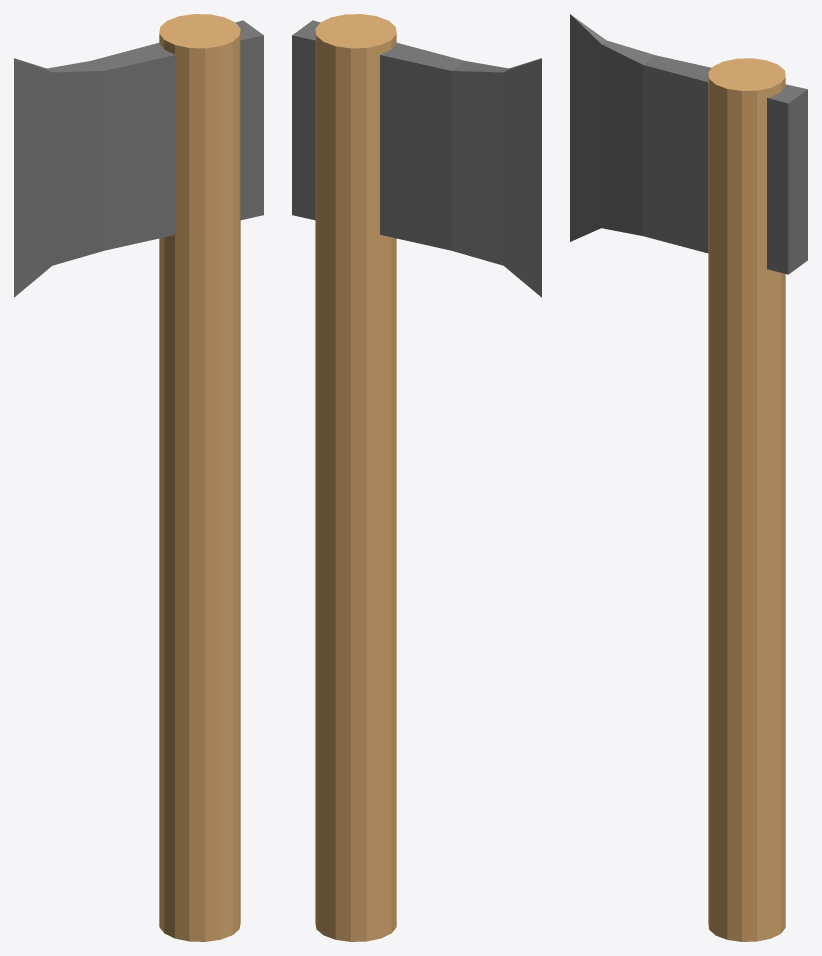
The model's file is axe.glb.
3 views of the same model, side by side, from view 1: azimuth 30°, elevation 25°; view 2: azimuth 150°, elevation 25°; view 3: azimuth 330°, elevation 25° (orthographic). The views are drawn at different scales.
Visible parts, largest first — view 1: Handle; view 2: Handle; view 3: Handle.
Part boxes in pixels (bbox=[...]): Handle: bbox=[14, 14, 263, 941]; Handle: bbox=[292, 14, 541, 941]; Handle: bbox=[570, 14, 807, 941].
Bounding box in the file's own units: 0.3365 × 1.22 × 0.1.
